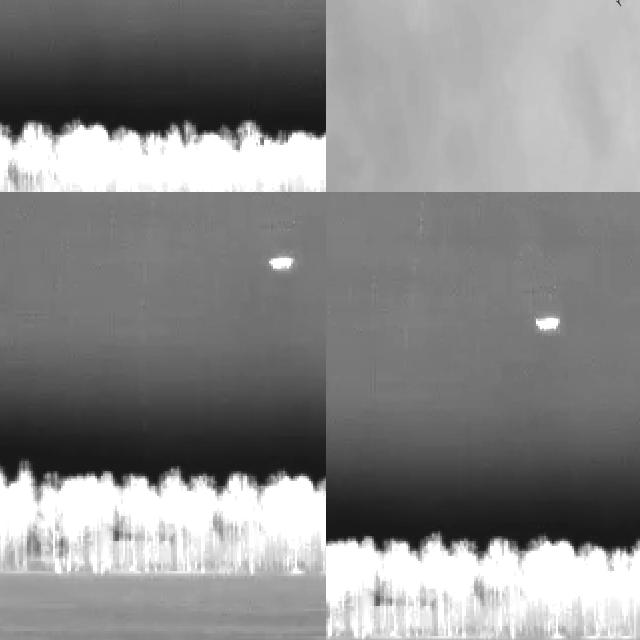1: (257, 250, 301, 282), (523, 310, 567, 342)
drone: (606, 0, 631, 12)
